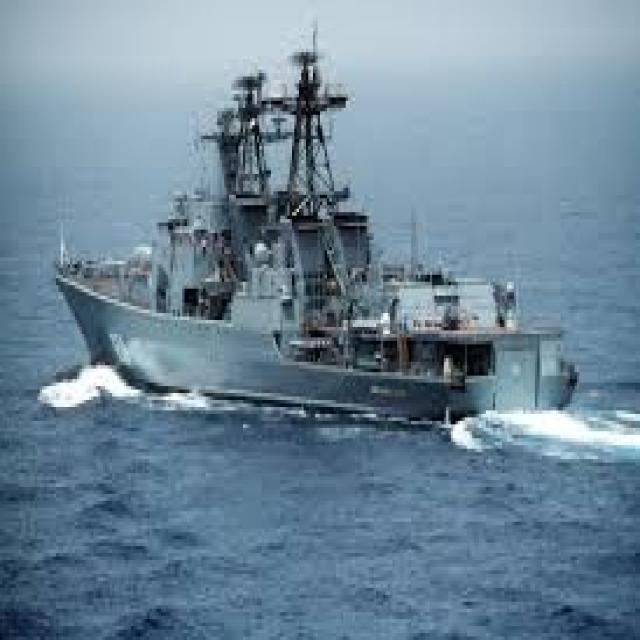navalvessels: (58, 34, 586, 427)
